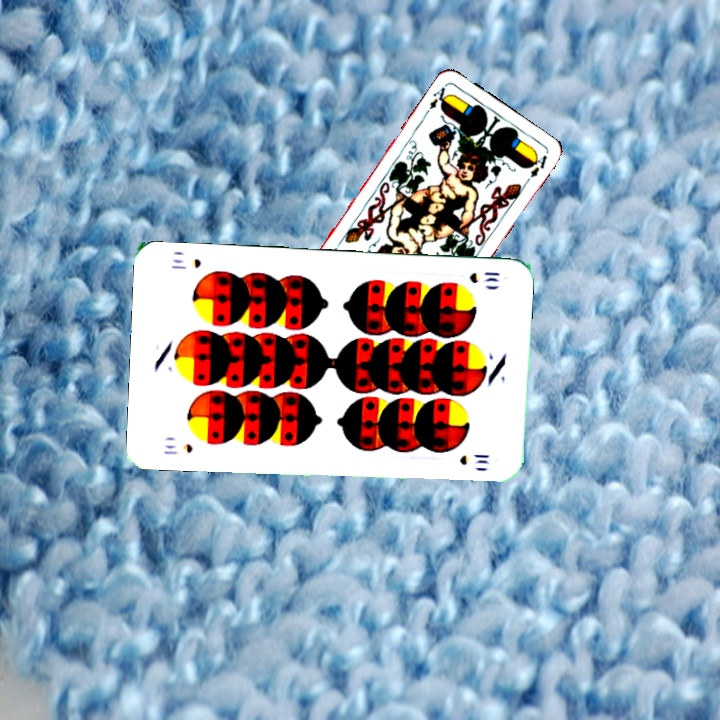EA: (422, 80, 453, 116)
S10: (465, 268, 502, 286), (160, 440, 195, 457)
